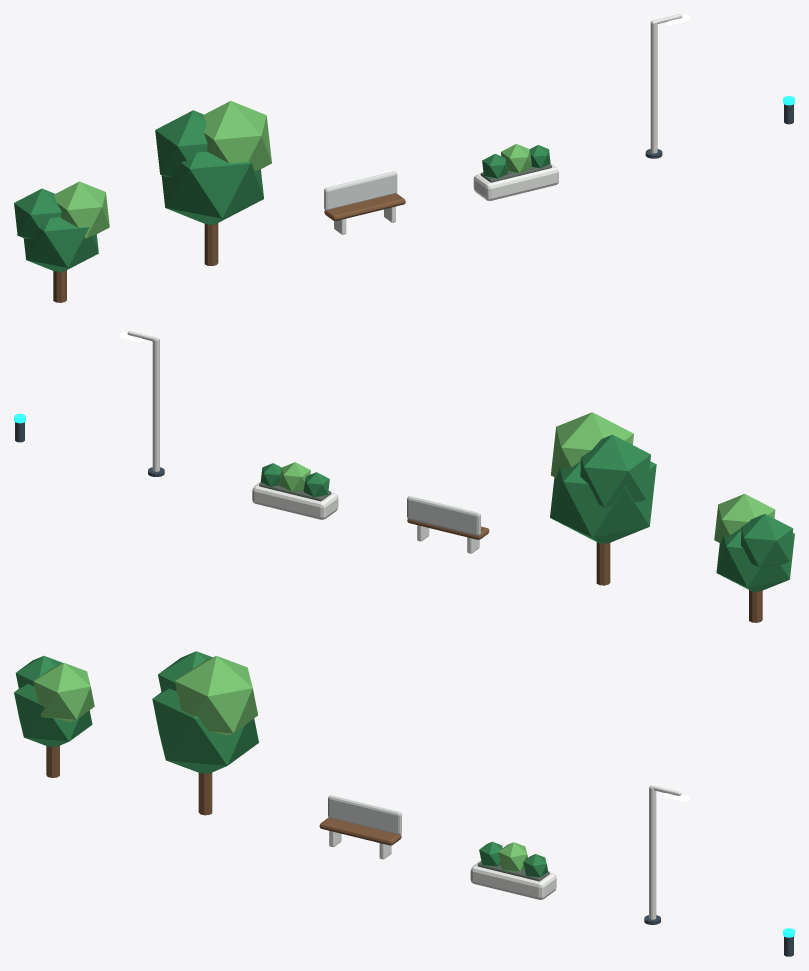
Rendered from prop-kit.glb.
3 renders of one model, top to bottom at view 1: azimuth 30°, elevation 25°; view 2: azimuth 150°, elevation 25°; view 3: azimuth 330°, elevation 25°, orthographic.
Visible parts, largest first — view 1: prop_tree_large, prop_tree_small, prop_planter, prop_bench, prop_streetlight; view 2: prop_tree_large, prop_tree_small, prop_planter, prop_bench, prop_streetlight; view 3: prop_tree_large, prop_tree_small, prop_planter, prop_bench, prop_streetlight.
Part boxes in pixels (<box>): prop_tree_large: <box>155,101,271,265</box>; prop_tree_small: <box>14,181,109,302</box>; prop_planter: <box>473,144,558,200</box>; prop_bench: <box>324,171,405,234</box>; prop_streetlight: <box>645,14,690,158</box>; prop_tree_large: <box>550,412,656,585</box>; prop_tree_small: <box>714,494,794,622</box>; prop_planter: <box>252,462,338,519</box>; prop_bench: <box>407,496,489,553</box>; prop_streetlight: <box>119,331,164,476</box>; prop_tree_large: <box>152,651,258,815</box>; prop_tree_small: <box>14,656,94,777</box>; prop_planter: <box>470,841,556,899</box>; prop_bench: <box>319,795,401,859</box>; prop_streetlight: <box>644,785,689,924</box>.
Bounding box in the file's own units: 25.48 × 5.11 × 2.89.
